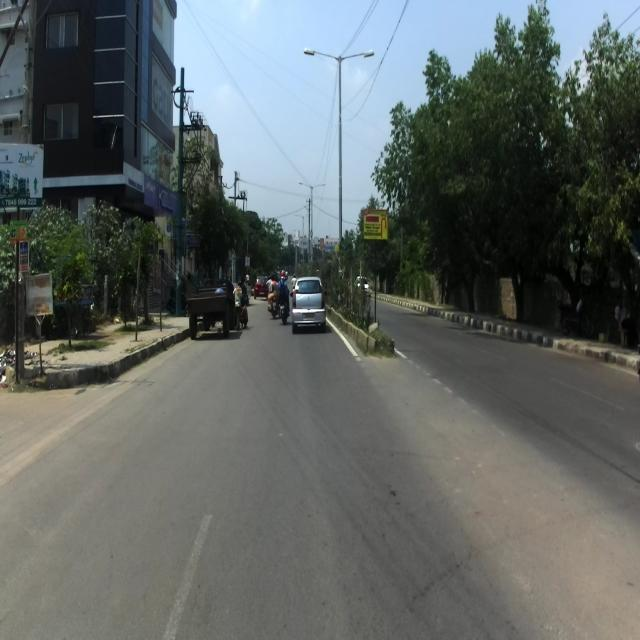car: (290, 276, 327, 334), (253, 275, 268, 300)
